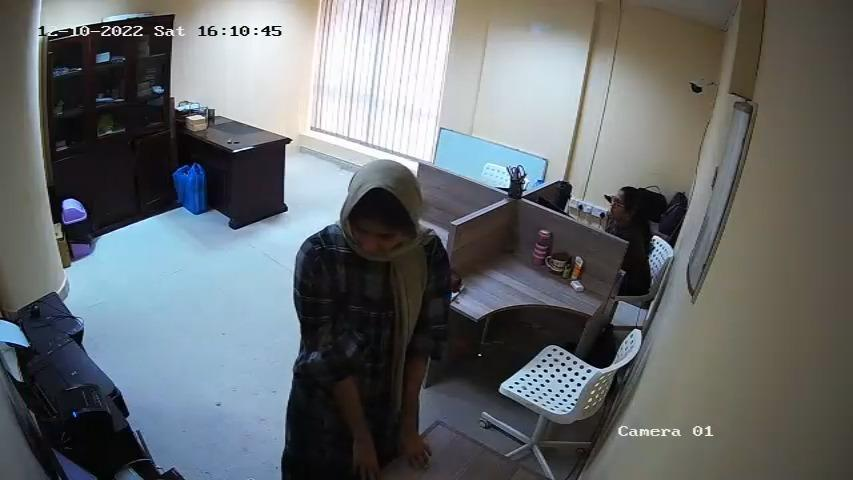no_apron: (396, 424, 434, 480), (348, 431, 384, 480)
no_gloves: (329, 154, 426, 216), (615, 180, 672, 224)
no_hairnet: (354, 226, 406, 272), (606, 200, 635, 230)
